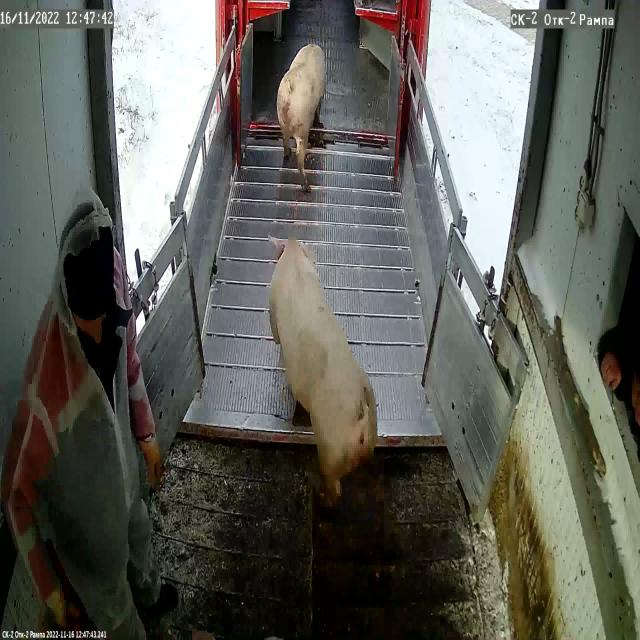pig: (268, 237, 377, 502), (277, 44, 325, 183)
